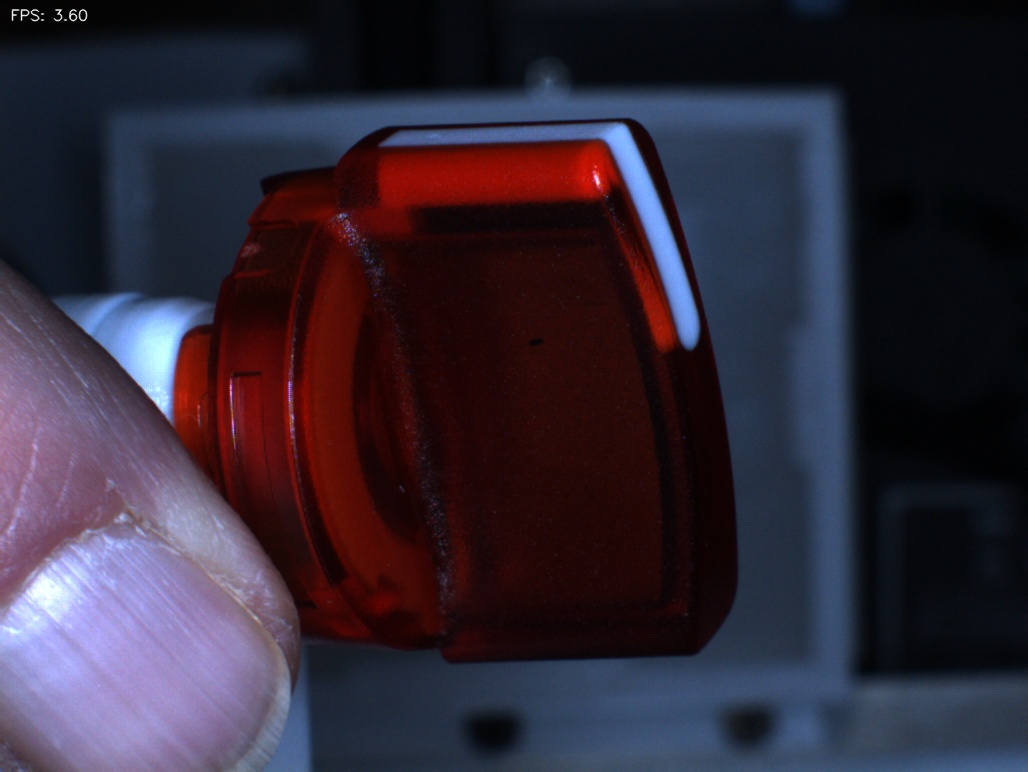PointNoir: (485, 307, 582, 384)
